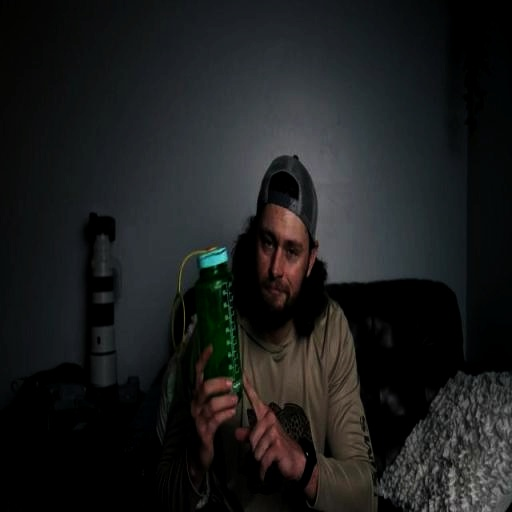bottle: (194, 246, 242, 398)
